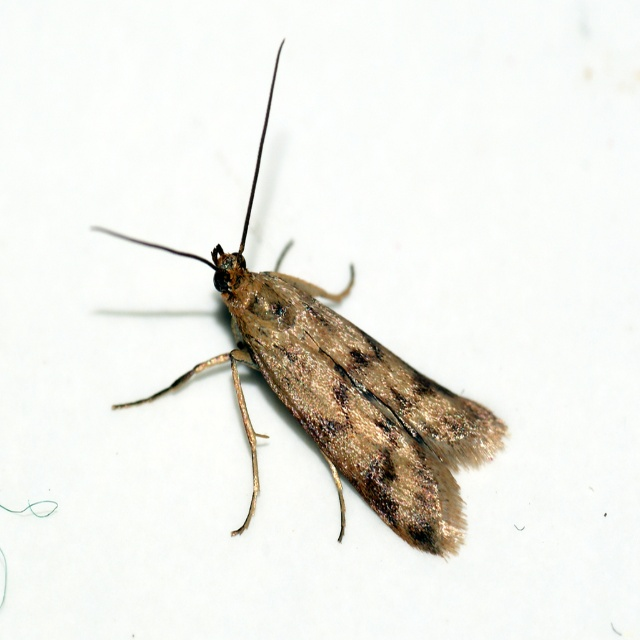Moths and butterflies: (87, 38, 506, 561)
